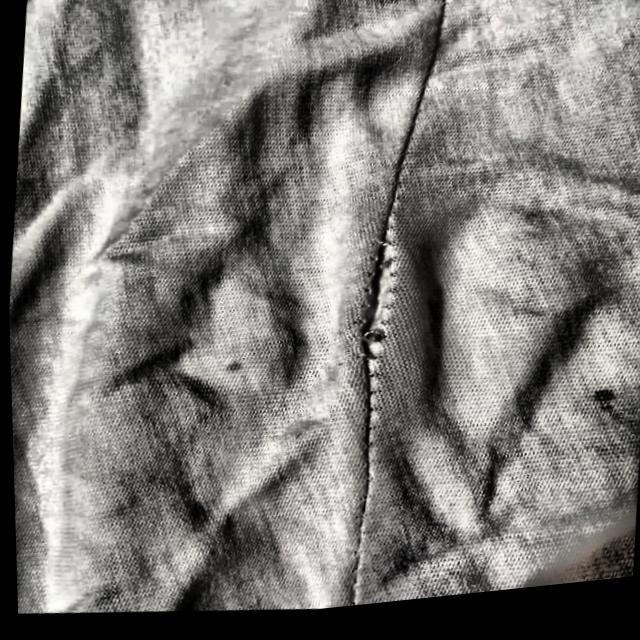Stitch: (298, 213, 431, 442)
